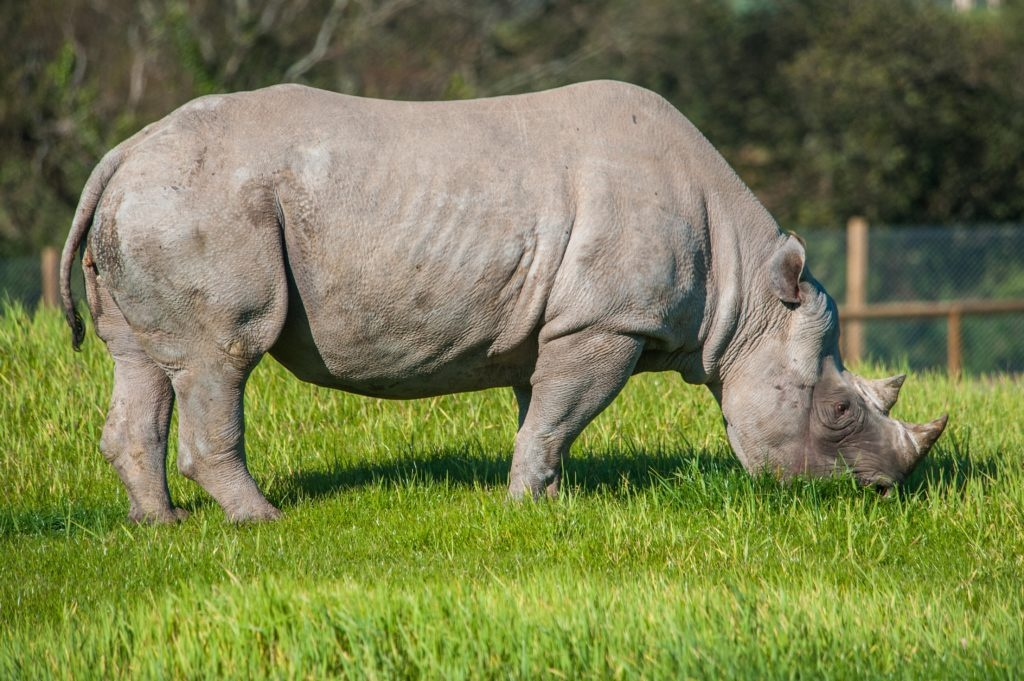rhino: (56, 77, 945, 523)
